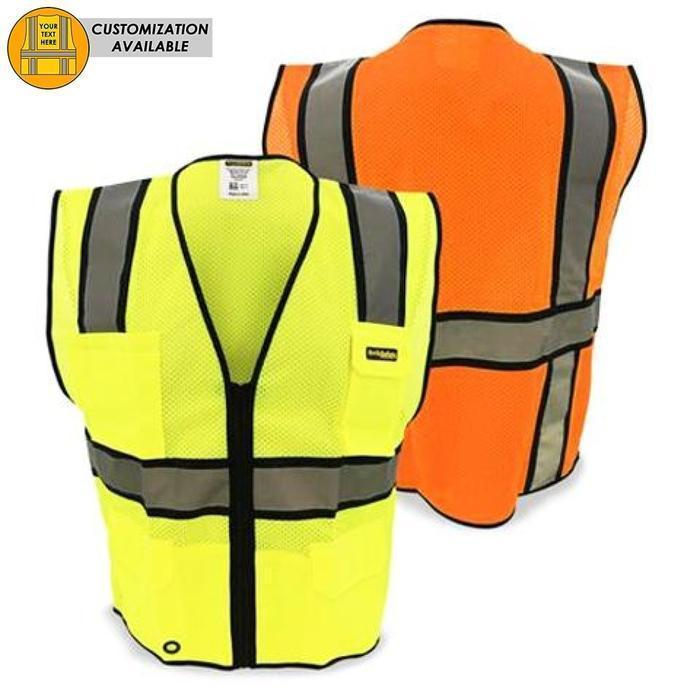vest: (43, 154, 440, 672), (256, 19, 650, 531)
